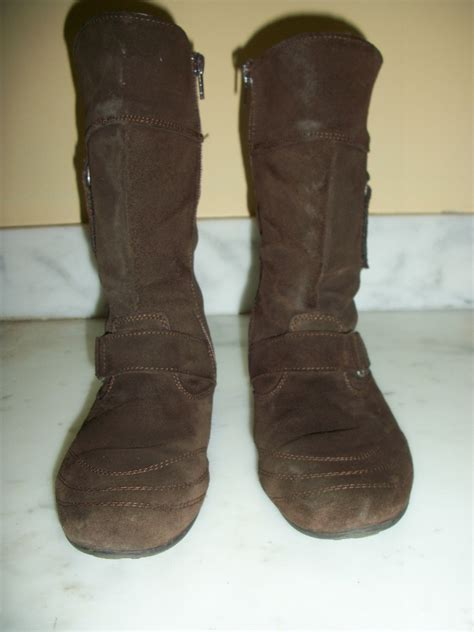gamuza: (56, 13, 415, 553)
